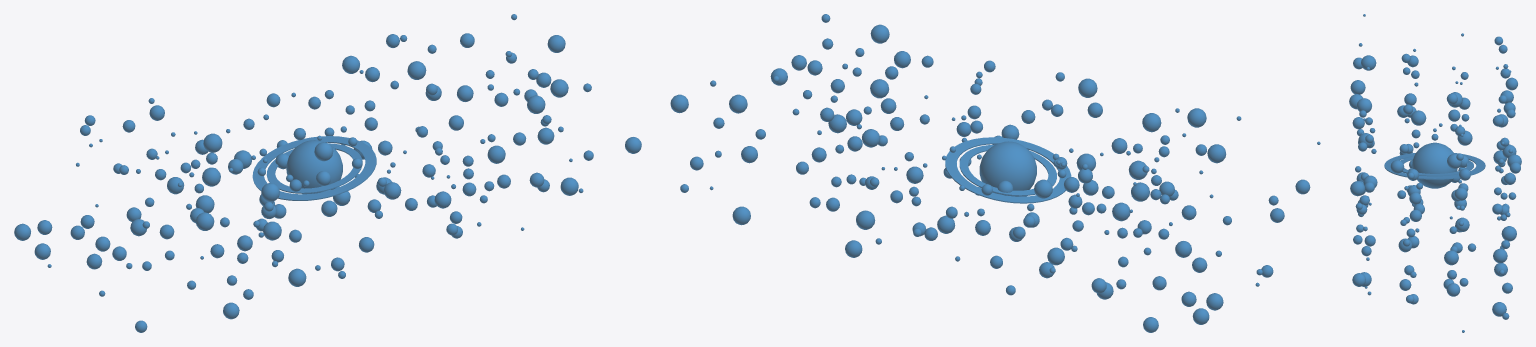
File: Saturn.glb
The picture shows the model from 3 angles, left to right: view 1: azimuth 30°, elevation 25°; view 2: azimuth 150°, elevation 25°; view 3: azimuth 270°, elevation 25°; orthographic projection. The views are drawn at different scales.
Parts seen in each view (by area): view 1: Tube.1, Sphere, Tube; view 2: Sphere, Tube.1, Tube; view 3: Sphere, Tube.1, Tube, Sphere 74, Sphere 152, Sphere 38, Sphere 131, Sphere 25, Sphere 47, Sphere 40, Sphere 179, Sphere 154 (+8 smaller).
Boxes of the visible parts, x1,y1,x2,y2 form: Tube.1: (252, 136, 376, 200); Sphere: (286, 140, 342, 194); Tube: (266, 143, 362, 193); Sphere: (979, 141, 1036, 196); Tube.1: (945, 137, 1071, 203); Tube: (959, 144, 1056, 196); Sphere: (1412, 142, 1457, 188); Tube.1: (1384, 153, 1485, 179); Tube: (1400, 156, 1473, 176); Sphere 74: (1411, 110, 1426, 125); Sphere 152: (1501, 226, 1516, 241); Sphere 38: (1361, 55, 1376, 70); Sphere 131: (1444, 250, 1458, 265); Sphere 25: (1350, 80, 1365, 94); Sphere 47: (1350, 181, 1365, 196); Sphere 40: (1356, 98, 1371, 112); Sphere 179: (1493, 248, 1507, 263); Sphere 154: (1492, 302, 1506, 316).
Bounding box in the file's own units: 2242 × 643 × 751.
